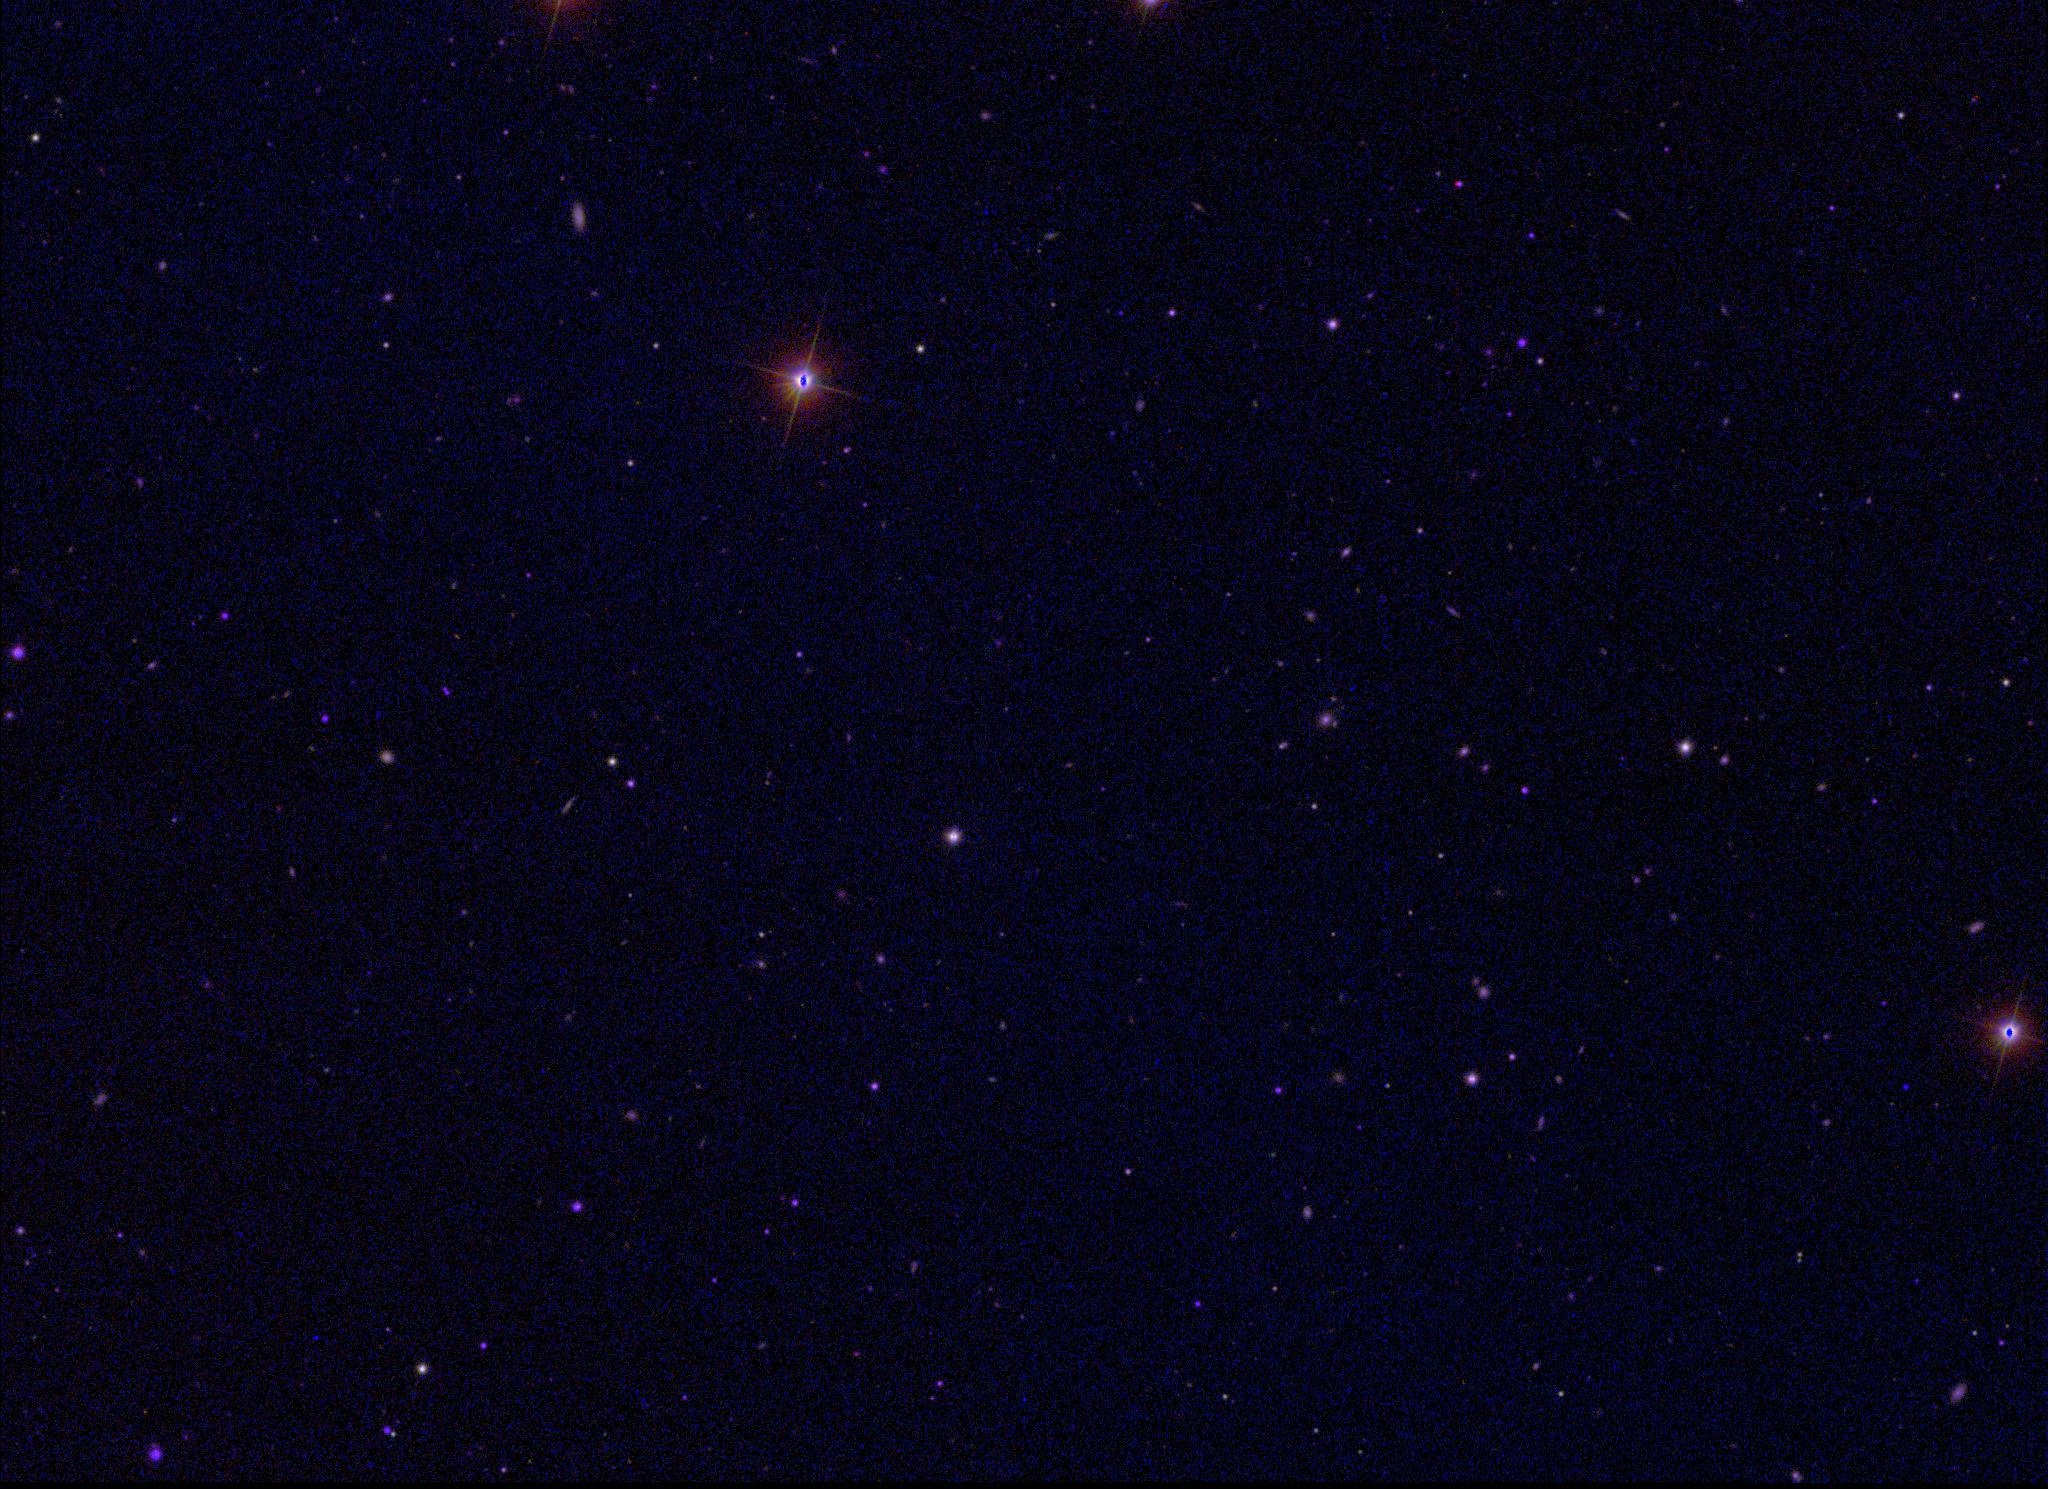L: (1897, 1080, 1911, 1094)
